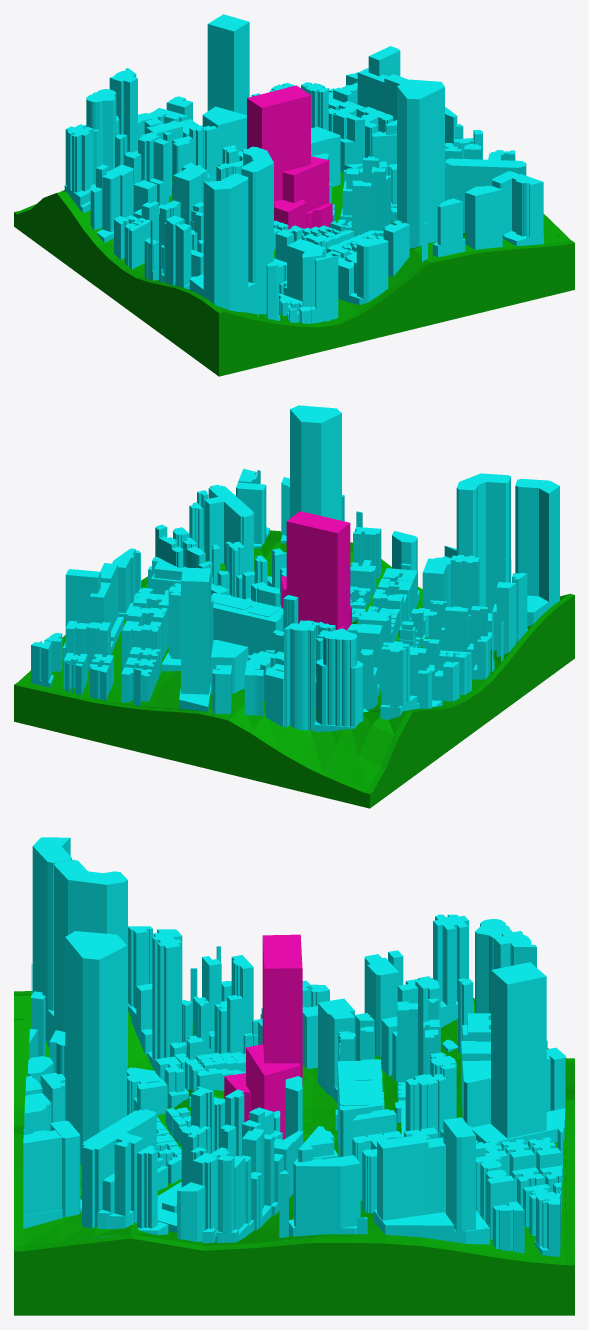
The model's file is dunchangever1.glb.
3 views of the same model, one above another, from view 1: azimuth 30°, elevation 25°; view 2: azimuth 150°, elevation 25°; view 3: azimuth 270°, elevation 25° (orthographic). The views are drawn at different scales.
Parts seen in each view (by area): view 1: Model, Group513, Group299, Group389, Group43, Group211, Group673, Group351, Group150, Group220, Group542, Group25 (+44 smaller); view 2: Model, Group673, Group389, Group211, Group513, Group299, Group43, Group630, Group351, Group168, Group81, Group169 (+42 smaller); view 3: Model, Group513, Group673, Group43, Group211, Group389, Group45, Group351, Group192, Group299, Group245, Group111 (+64 smaller).
Boxes of the visible parts, x1,y1,x2,y2 form: Model: [14, 191, 574, 376]; Group513: [397, 79, 444, 248]; Group299: [203, 173, 248, 312]; Group389: [247, 85, 310, 201]; Group43: [207, 14, 249, 115]; Group211: [241, 146, 273, 314]; Group673: [60, 165, 563, 324]; Group351: [445, 153, 526, 233]; Group150: [465, 185, 502, 249]; Group220: [282, 156, 329, 212]; Group542: [65, 124, 93, 200]; Group25: [287, 239, 326, 306]; Model: [14, 530, 574, 808]; Group673: [25, 533, 564, 790]; Group389: [286, 511, 350, 630]; Group211: [456, 473, 510, 613]; Group513: [290, 405, 341, 520]; Group299: [515, 478, 559, 608]; Group43: [181, 567, 211, 694]; Group630: [284, 620, 315, 730]; Group351: [204, 484, 253, 572]; Group168: [316, 658, 363, 726]; Group81: [211, 593, 283, 655]; Group169: [323, 628, 357, 726]; Model: [14, 991, 574, 1315]; Group513: [65, 931, 126, 1166]; Group673: [23, 995, 565, 1260]; Group43: [491, 962, 546, 1138]; Group211: [54, 859, 127, 1069]; Group389: [262, 934, 302, 1086]; Group45: [294, 1155, 360, 1236]; Group351: [82, 1109, 156, 1239]; Group192: [377, 1134, 428, 1220]; Group299: [32, 837, 71, 1044]; Group245: [152, 931, 181, 1060]; Group111: [443, 1117, 475, 1243].
Size of the model in its own units: 32.84 by 18.53 by 32.77.
